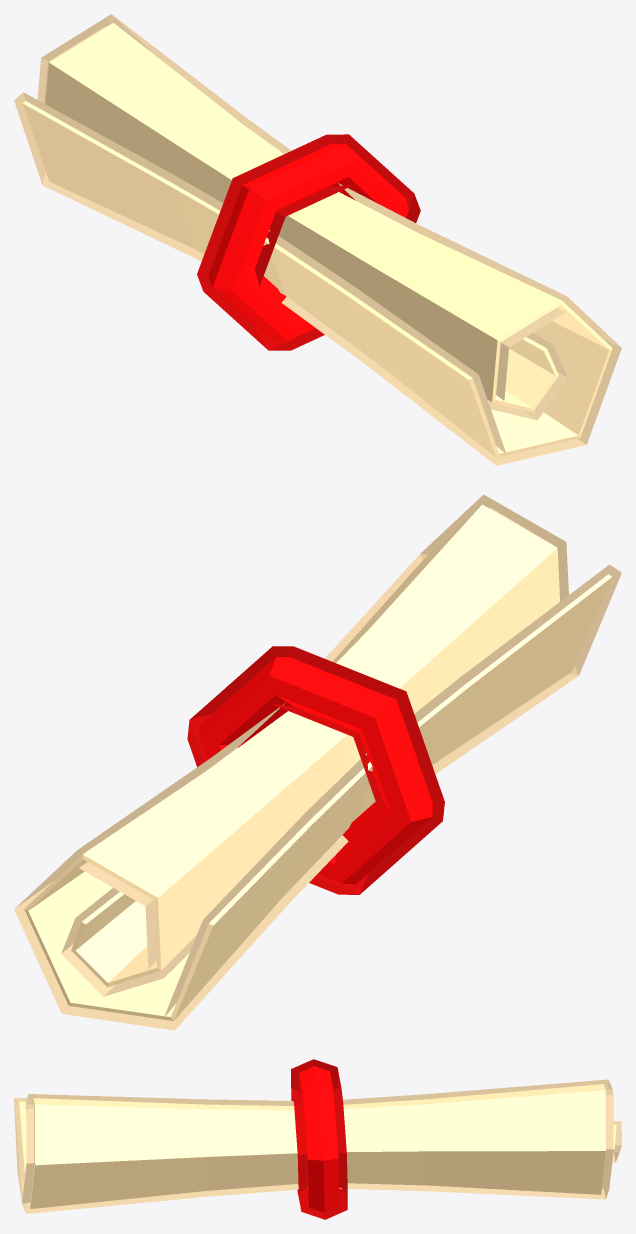
Rendered from scroll5.glb.
3 views of the same model, one above another, from view 1: azimuth 30°, elevation 25°; view 2: azimuth 150°, elevation 25°; view 3: azimuth 270°, elevation 25° (orthographic). The views are drawn at different scales.
Visible parts, largest first — view 1: Scroll.004, PaperToon.005; view 2: Scroll.004, PaperToon.005; view 3: Scroll.004, PaperToon.005.
Part boxes in pixels (left/top/right/bottom): Scroll.004: left=22, top=23, right=612, bottom=457; PaperToon.005: left=14, top=14, right=621, bottom=465; Scroll.004: left=24, top=504, right=611, bottom=1020; PaperToon.005: left=14, top=494, right=621, bottom=1030; Scroll.004: left=19, top=1066, right=616, bottom=1212; PaperToon.005: left=14, top=1059, right=621, bottom=1219.
Bounding box in the file's own units: 0.1152 × 0.0997 × 0.3879.
2 materials, 2 textured.
